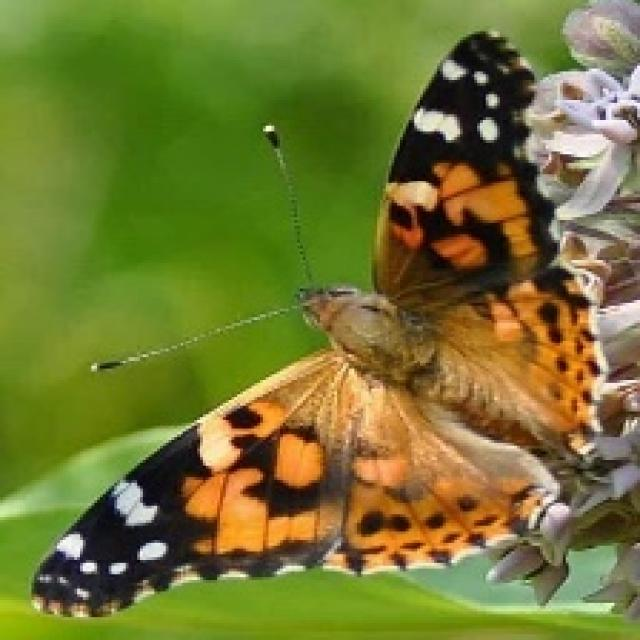butterfly: (29, 26, 608, 617)
